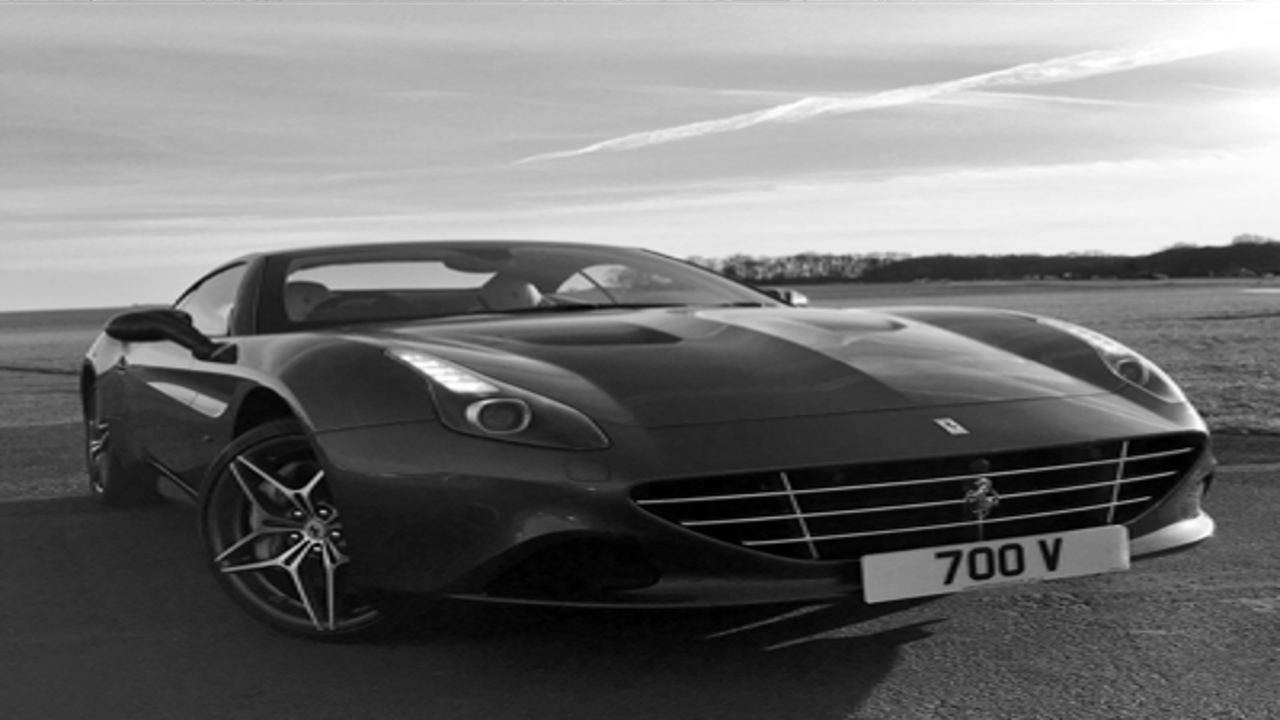license: (844, 517, 1137, 611)
